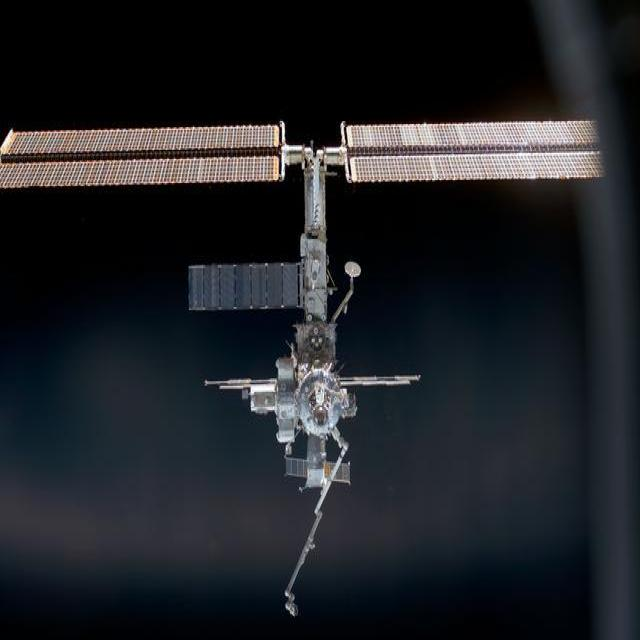medium_debris: (0, 121, 602, 614)
